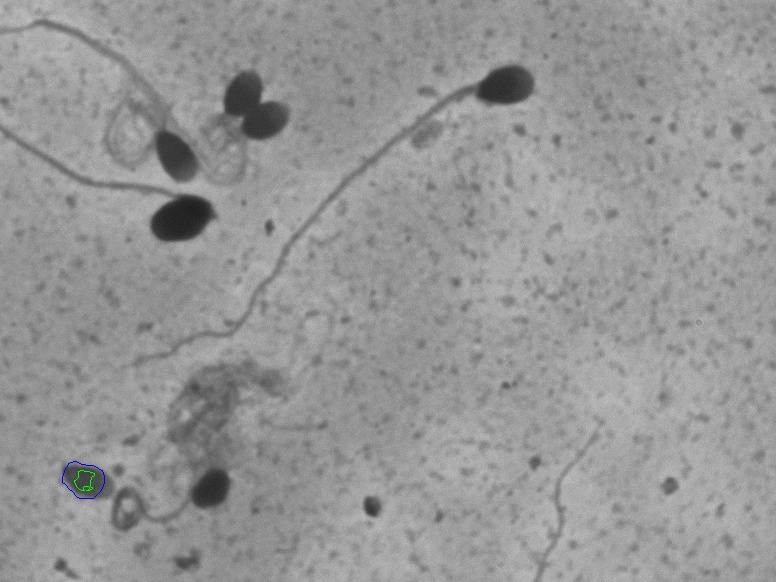Normal: (74, 28, 559, 397)
